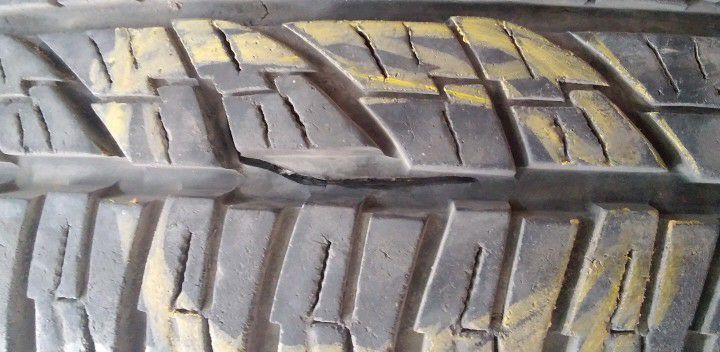tr: (225, 111, 484, 196)
